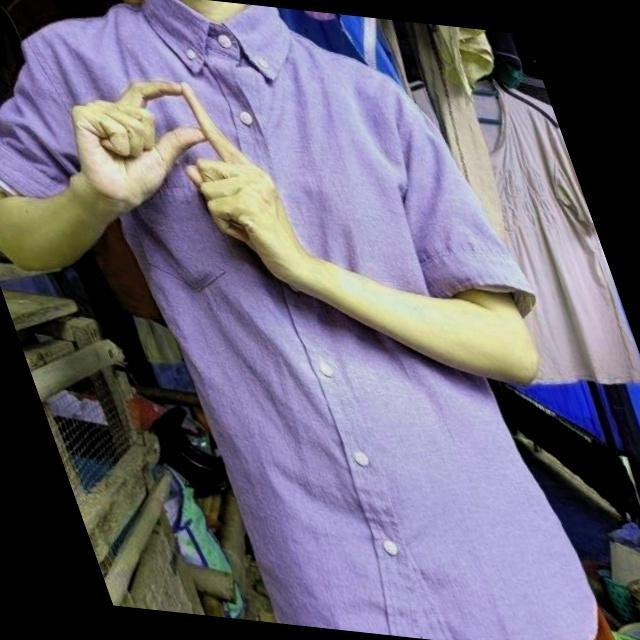P: (88, 62, 262, 232)
